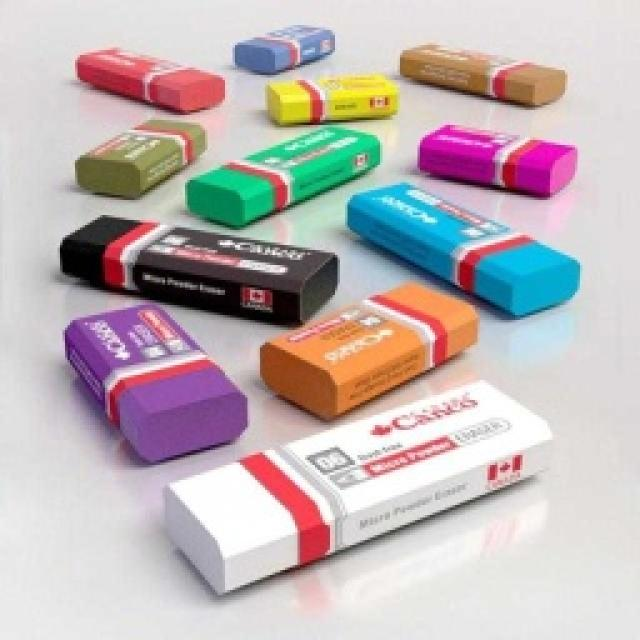Silgi: (161, 381, 554, 595)
